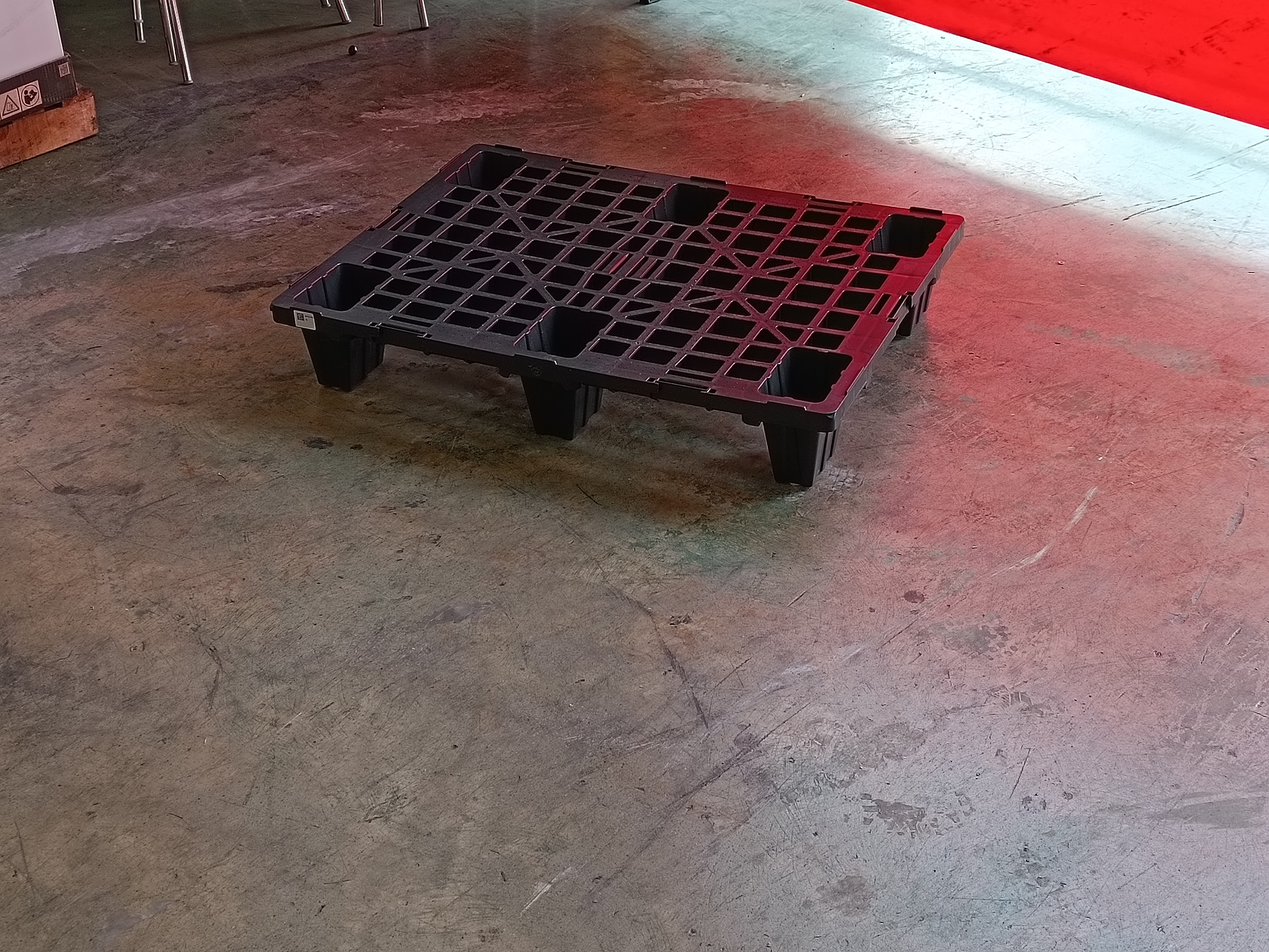block: (270, 308, 365, 383), (756, 401, 830, 482), (513, 363, 593, 430)
front: (268, 313, 839, 483)
hole pallet: (589, 378, 766, 477), (355, 331, 532, 425)
